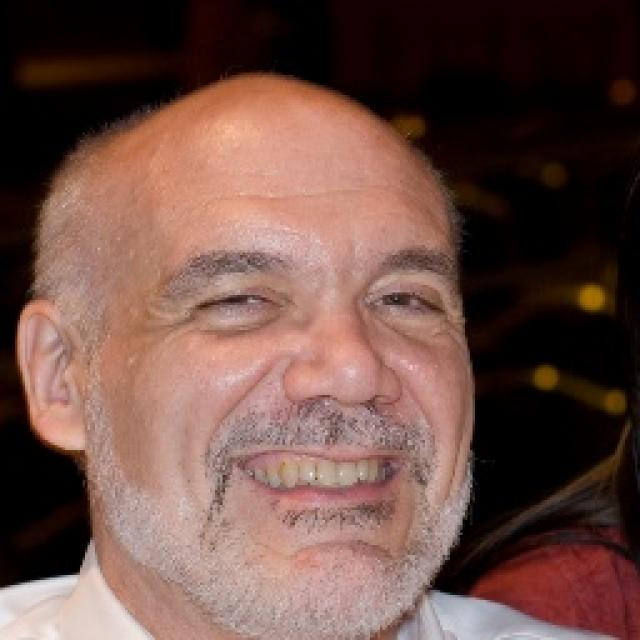earlobe: (15, 301, 93, 450)
